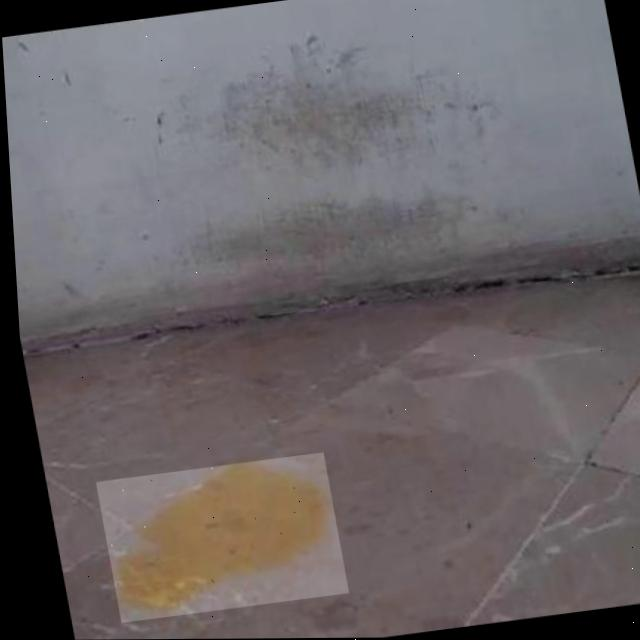spillage: (103, 463, 328, 617)
